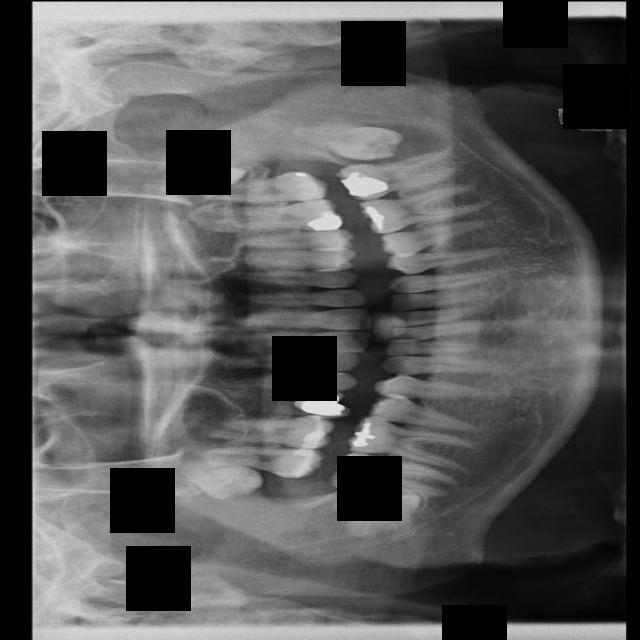3M ESPE Implant: (158, 450, 267, 507)
52: (333, 150, 393, 212), (343, 406, 394, 462), (357, 188, 407, 241), (328, 446, 379, 496), (287, 411, 337, 452), (275, 167, 331, 203), (297, 197, 344, 232), (273, 447, 326, 478), (302, 400, 351, 419), (302, 389, 345, 403)
73: (606, 8, 614, 16)
BioHorizons Implant: (183, 168, 331, 206)
BioLife Implant: (157, 140, 250, 219)
Biomet 3i Implant: (287, 125, 403, 161)
Blue Sky Bio Implant: (332, 148, 460, 205)
Caries: (184, 442, 327, 479)
Implant: (329, 449, 460, 499)
Keystone Dental Implant: (339, 479, 427, 547)
